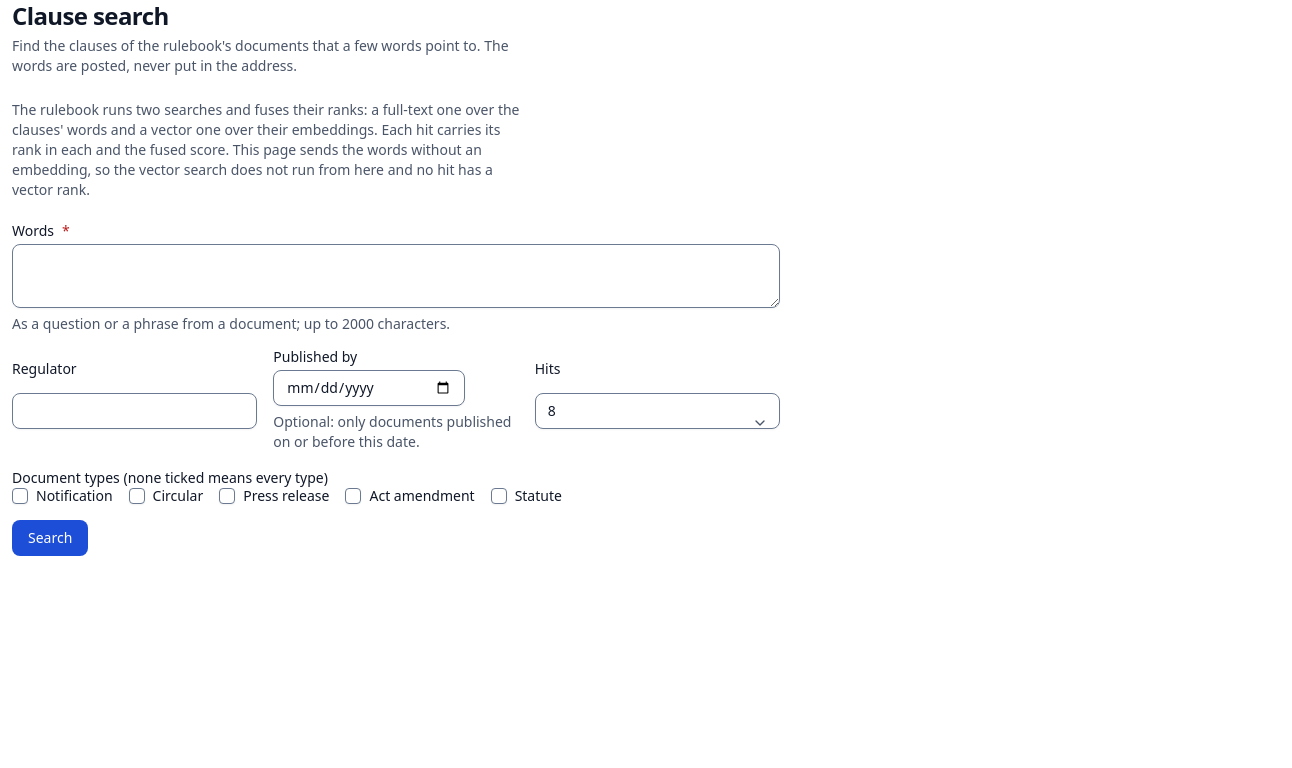
it: the clause search › says when nothing matched, and puts a refused field's message on it
This screenshot has width=1292, height=768.
Click the button "Search" at [50, 538], box x1=12 y1=520 x2=88 y2=556
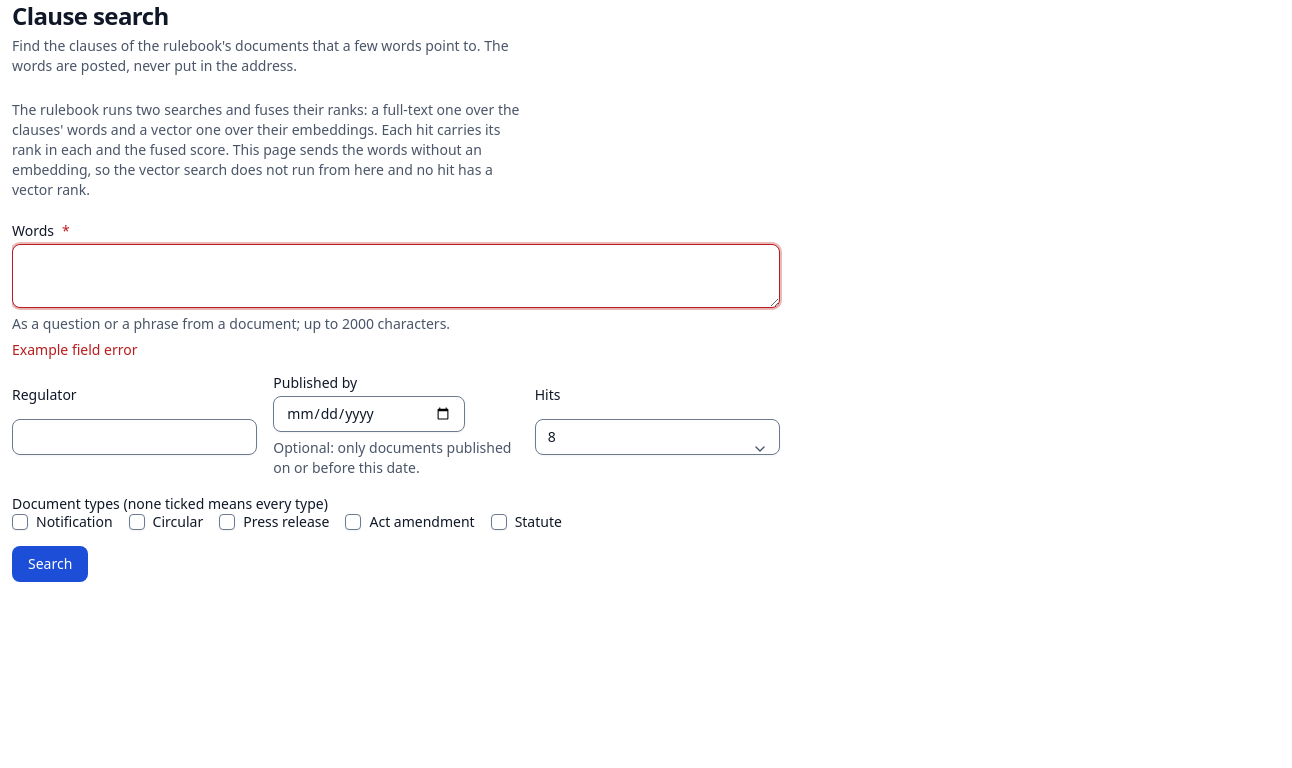
Now the text "Example field error" is shown, box x1=12 y1=340 x2=138 y2=359
Click the button "Search" at [50, 564], box x1=12 y1=546 x2=88 y2=582
(page scrolled)
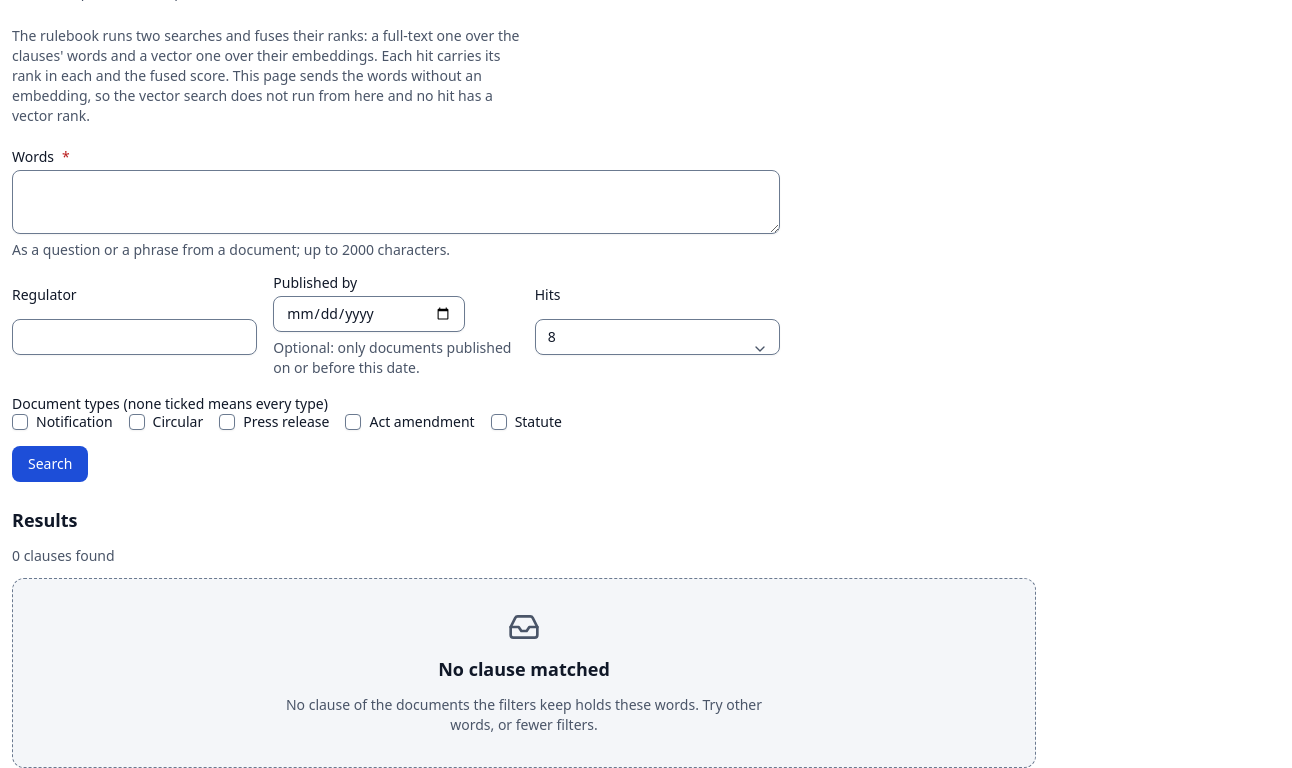
Now the heading "No clause matched" is shown, box x1=438 y1=655 x2=610 y2=683
Click the button "Search" at [50, 464], box x1=12 y1=446 x2=88 y2=482
(page scrolled)
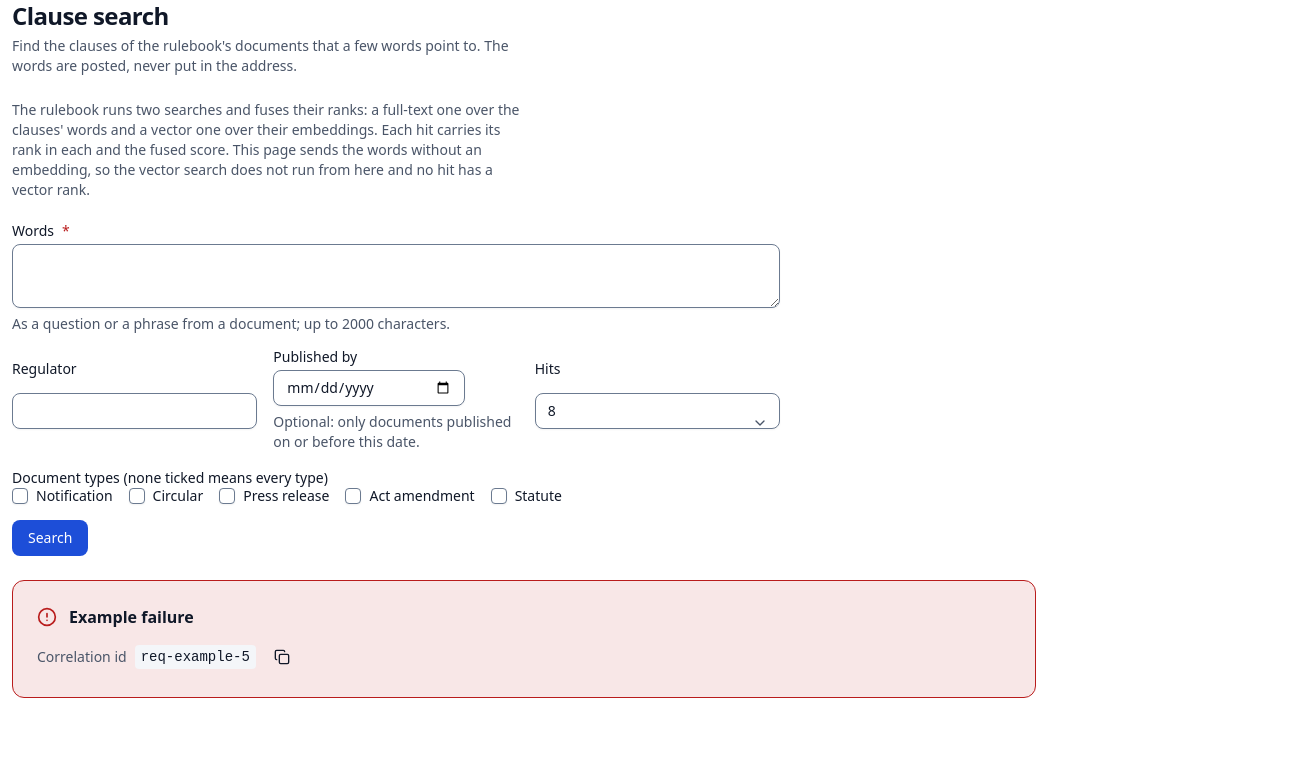
Now the message shows "req-example-5", box x1=141 y1=649 x2=250 y2=665
